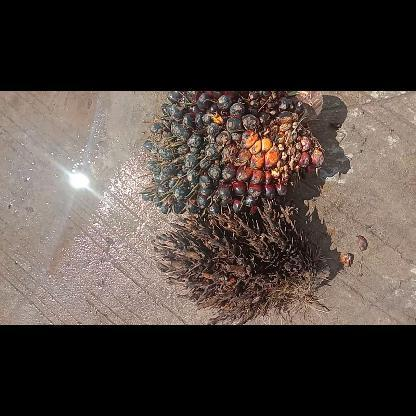Janjang kosong: (150, 198, 333, 324)
TBS mentah: (138, 91, 324, 215)
